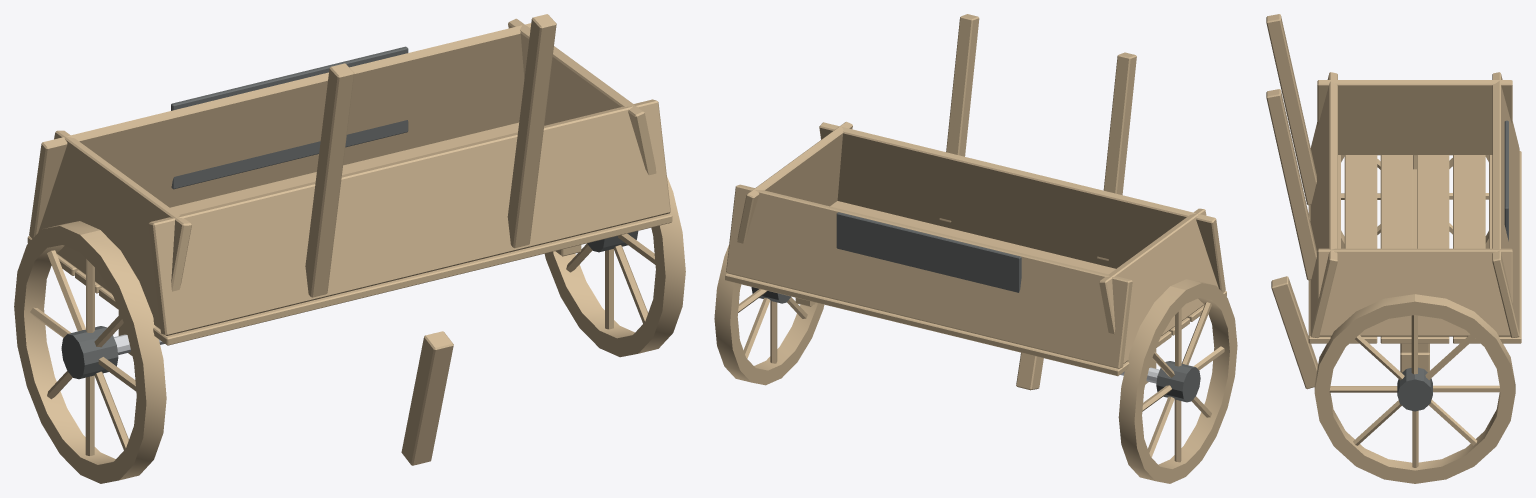
The model's file is garden-centre-and-florist-seasonal-display-cart-d947c7b5__17730.glb.
3 renders of one model, left to right at view 1: azimuth 30°, elevation 25°; view 2: azimuth 150°, elevation 25°; view 3: azimuth 270°, elevation 25°, orthographic. The views are drawn at different scales.
Visible parts, largest first — view 1: seasonal-display-cart; view 2: seasonal-display-cart; view 3: seasonal-display-cart.
Boxes of the visible parts, box(x1,y1,x2,y2) form: seasonal-display-cart: box(14, 14, 685, 483); seasonal-display-cart: box(714, 14, 1237, 483); seasonal-display-cart: box(1266, 14, 1521, 483).
Bounding box in the file's own units: 1.64 × 1.24 × 0.8628.
